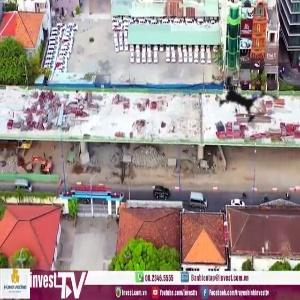drone: (196, 47, 296, 147)
